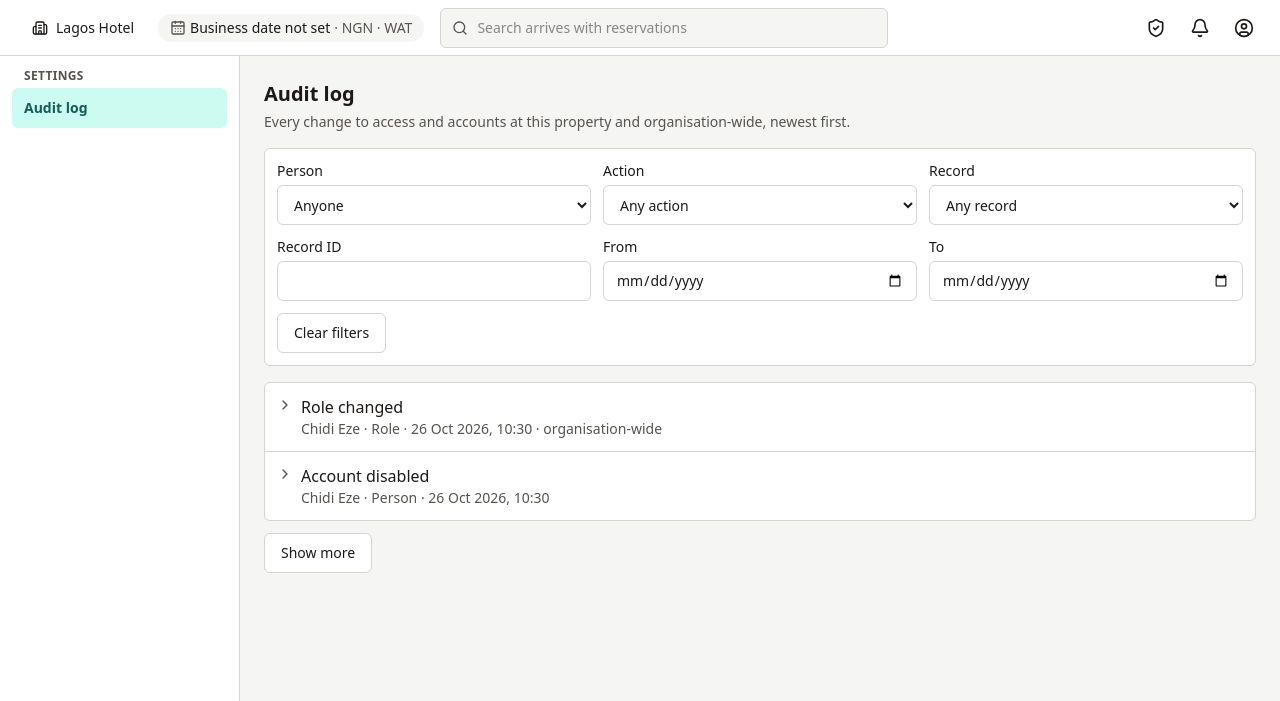
Audit log (S27) › opens a row to show the before/after values and request details
The image size is (1280, 701).
What coordinates should you click on to do the following:
click the button "Role changed"
I would click on:
 (352, 407)
Its box is [277,395,1243,439].
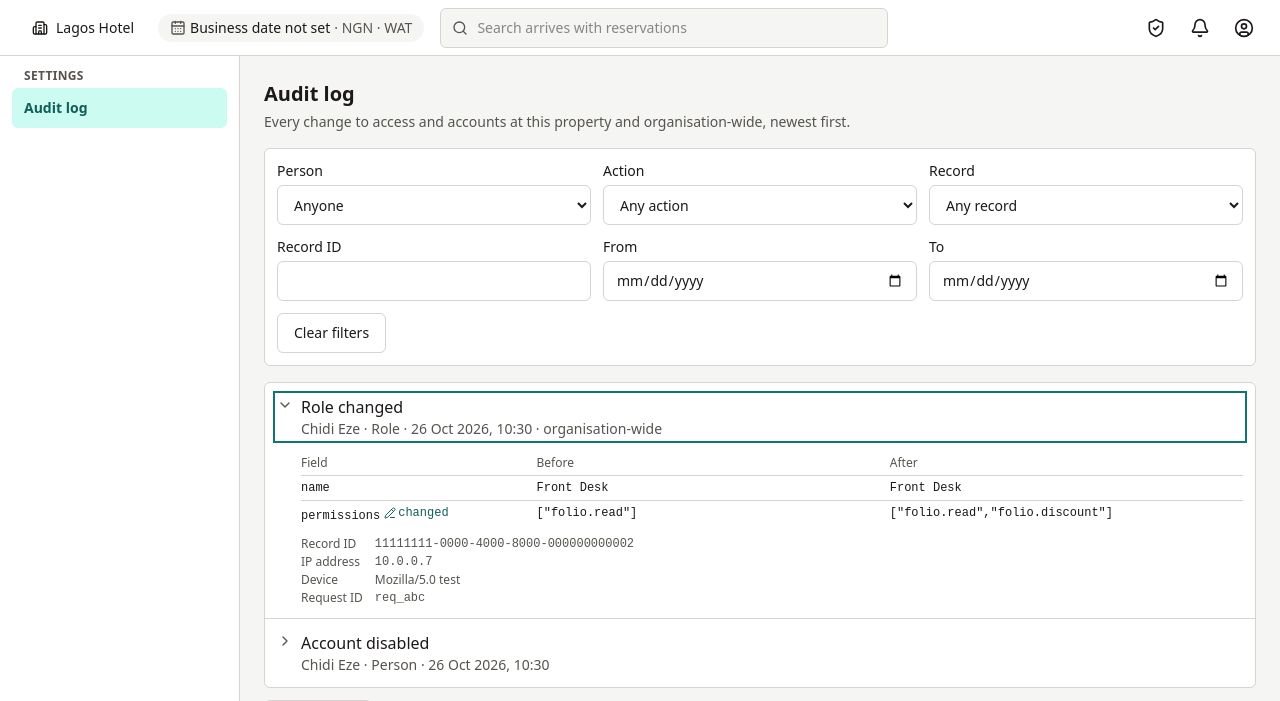
Expected: the row "permissions" shows "changed", [398,506,449,520]
Expected: the row "permissions" shows "[\"folio.read\",\"folio.discount\"]", [890,506,1113,520]
Expected: the text "10.0.0.7" is shown, [375,555,432,569]
